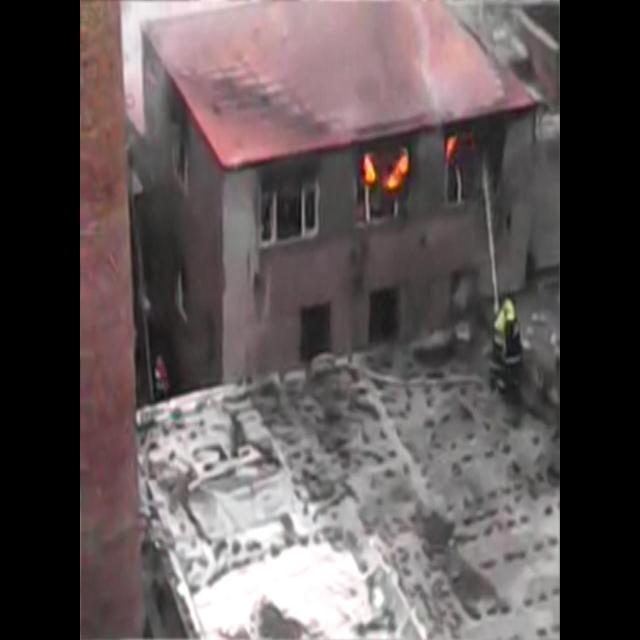Fire: (386, 153, 408, 189), (362, 158, 378, 186), (444, 136, 458, 160)
Smoke: (411, 0, 449, 126), (121, 0, 159, 121)
